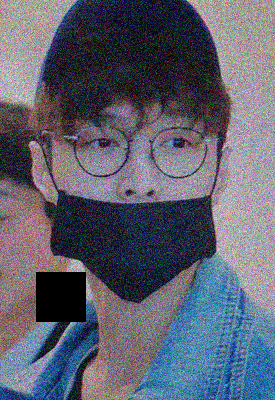mask_weared_incorrect: (48, 107, 218, 304)
